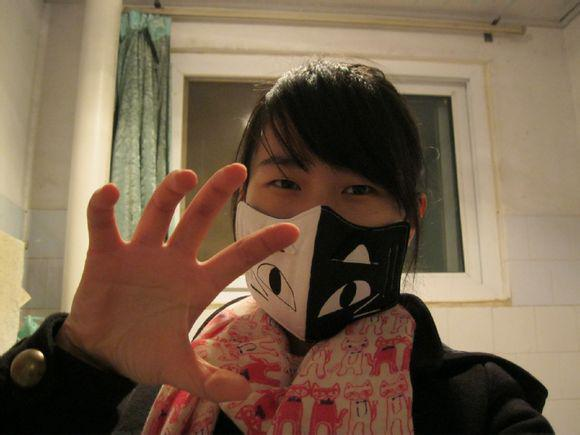OK: (238, 148, 406, 328)
